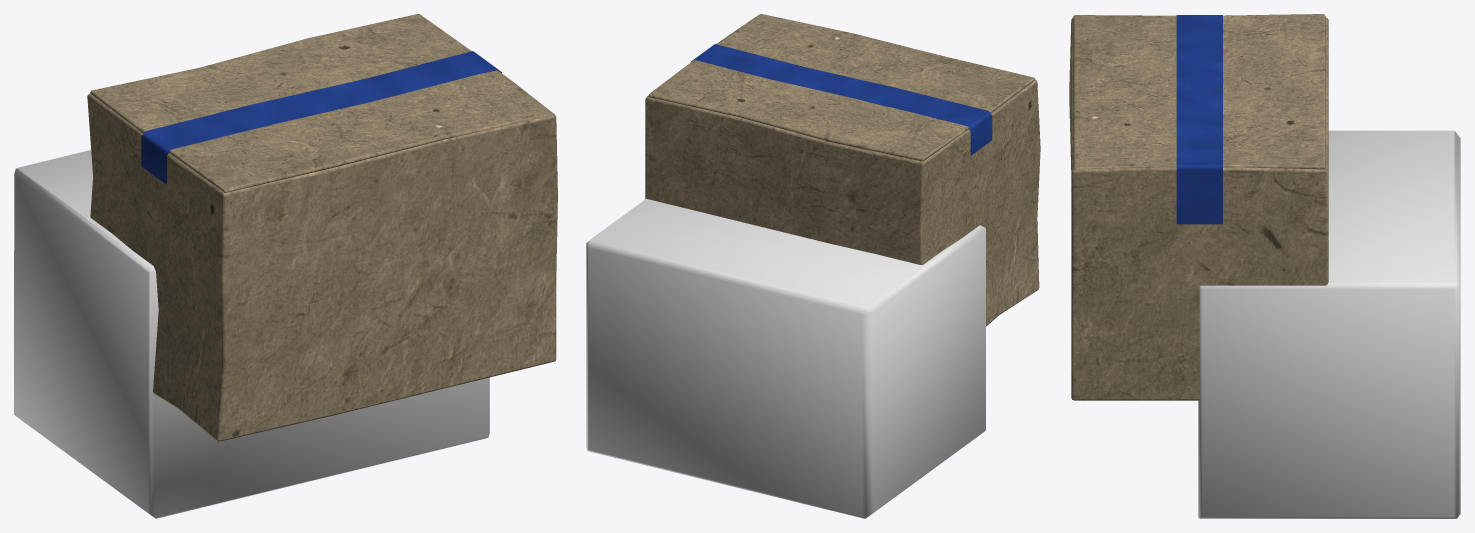
Rendered from SM_Cardboard_02.fbx.
3 renders of one model, left to right at view 1: azimuth 30°, elevation 25°; view 2: azimuth 150°, elevation 25°; view 3: azimuth 270°, elevation 25°, orthographic. The views are drawn at different scales.
Visible parts, largest first — view 1: SM_Cardboard_02, SM_Cardboard_02_ConvexHulls; view 2: SM_Cardboard_02_ConvexHulls, SM_Cardboard_02; view 3: SM_Cardboard_02, SM_Cardboard_02_ConvexHulls.
Part boxes in pixels (x1,y1,x2,y2): SM_Cardboard_02: (87,14,557,441); SM_Cardboard_02_ConvexHulls: (14,150,489,518); SM_Cardboard_02_ConvexHulls: (586,198,985,518); SM_Cardboard_02: (645,14,1040,326); SM_Cardboard_02: (1069,14,1328,400); SM_Cardboard_02_ConvexHulls: (1198,130,1460,518).
Bounding box in the file's own units: 0.7185 × 0.761 × 0.761.
